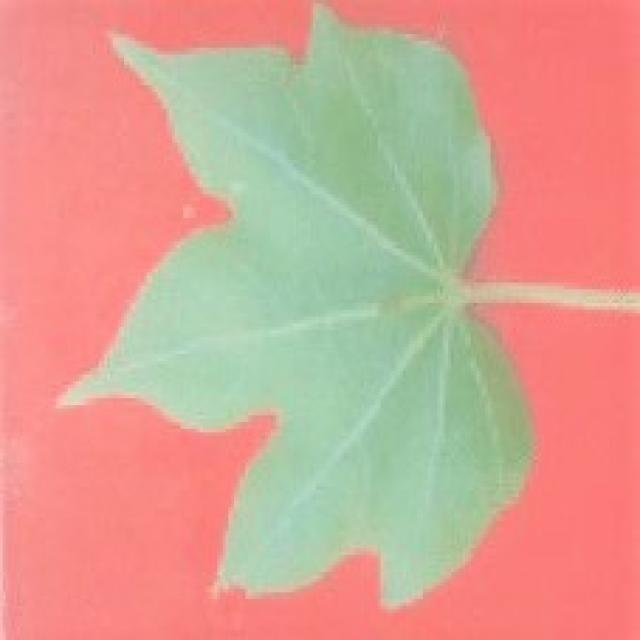Healthy Leaf: (43, 5, 627, 619)
